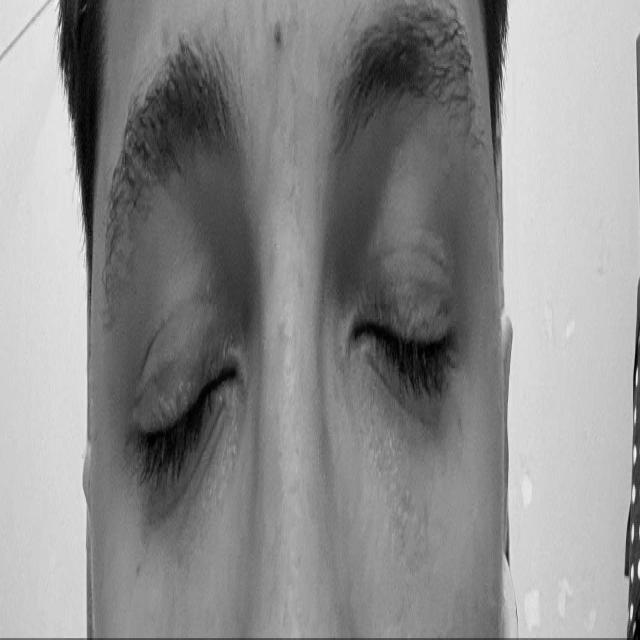real: (108, 158, 466, 524)
